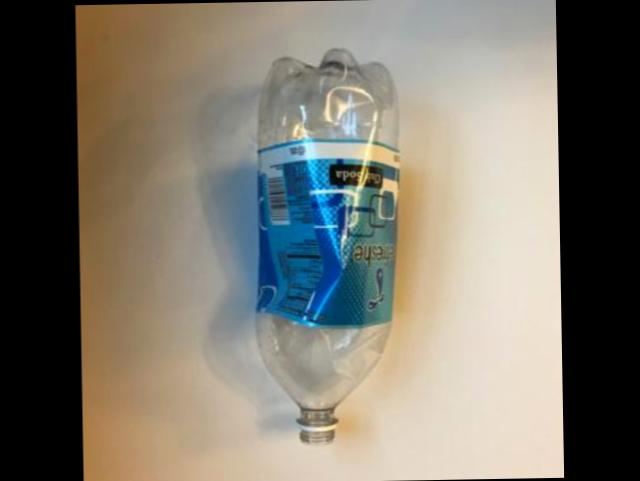plastic: (255, 51, 397, 444)
